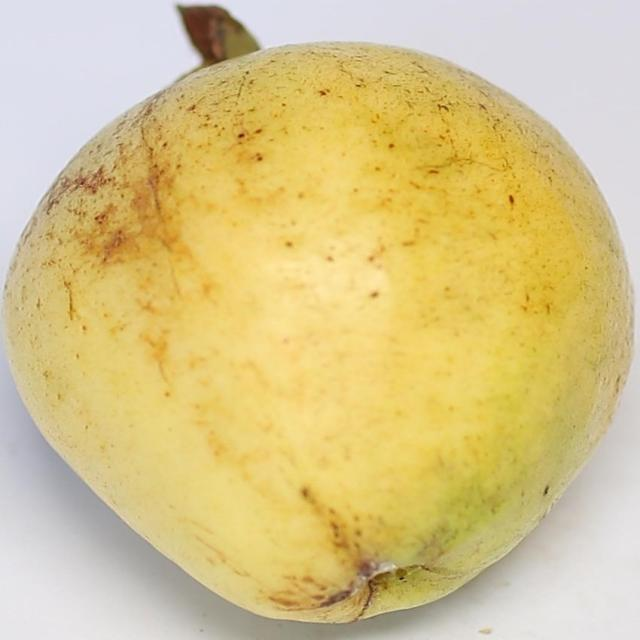Good_Guava: (3, 42, 634, 626)
